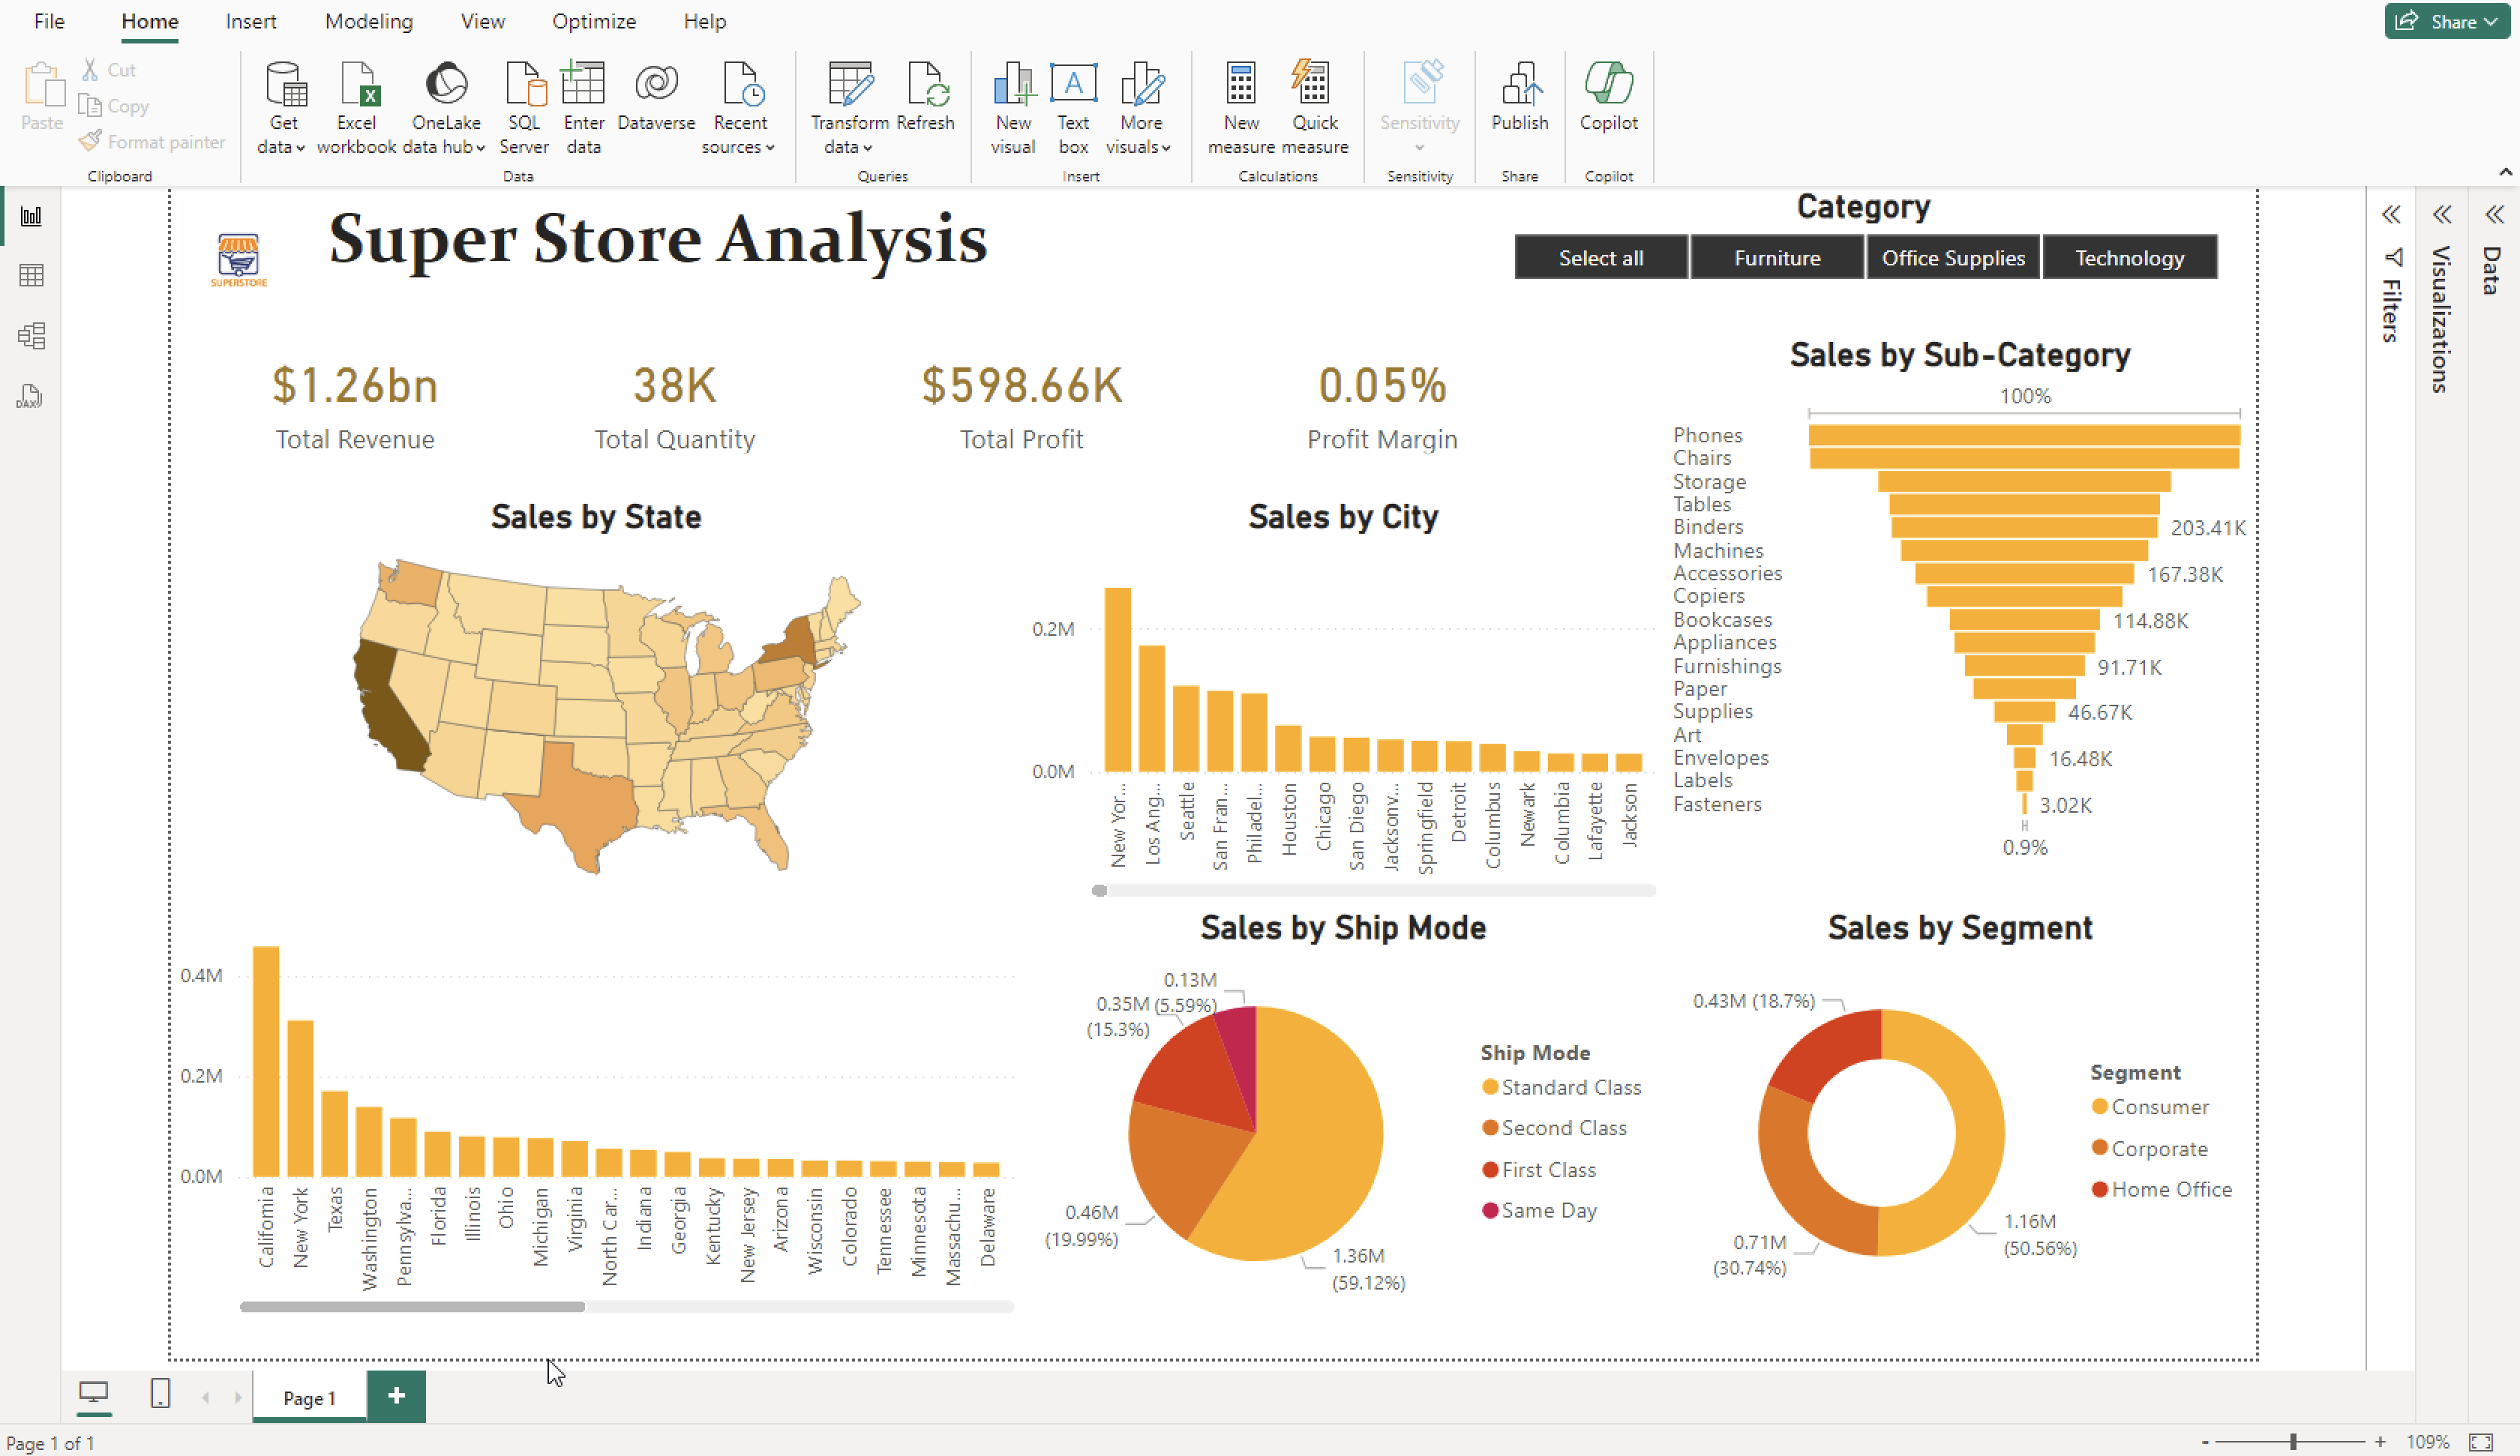

The page's visual inventory and layout, read from the dashboard file:
{"tool":"powerbi","page":{"name":"Page 1","canvas":[1280,720],"ordinal":0},"visuals":[{"type":"card","fields":{"Values":["SampleSuperstore.Total Revenue"]},"box":[0,91.6,226.4,78.2],"z":0},{"type":"card","fields":{"Values":["Sum(SampleSuperstore.Total Quantity)"]},"box":[226.4,91.6,165.7,78.2],"z":1000},{"type":"card","fields":{"Values":["Sum(SampleSuperstore.Profit)"]},"box":[392,91.6,260.3,78.2],"z":2000},{"type":"card","fields":{"Values":["SampleSuperstore.Profit Margin"]},"box":[652.3,91.6,182.1,78.2],"z":3000},{"type":"shapeMap","fields":{"Value":["Sum(SampleSuperstore.Sales)"],"Category":["SampleSuperstore.State"]},"box":[0,190.4,522.7,250],"z":3001},{"type":"columnChart","fields":{"Y":["Sum(SampleSuperstore.Sales)"],"Category":["SampleSuperstore.State"]},"box":[0,440.4,522.7,257.2],"z":3002},{"type":"columnChart","title":"Sales by City","fields":{"Category":["SampleSuperstore.City"],"Y":["Sum(SampleSuperstore.Sales)"]},"box":[522.7,190.4,394.1,251.1],"z":3003},{"type":"pieChart","title":"Sales by Ship Mode","fields":{"Category":["SampleSuperstore.Ship Mode"],"Y":["Sum(SampleSuperstore.Sales)"]},"box":[522.7,442.4,394.1,255.2],"z":3004},{"type":"funnel","title":"Sales by Sub-Category","fields":{"Category":["SampleSuperstore.Sub-Category"],"Y":["Sum(SampleSuperstore.Sales)"]},"box":[916.8,91.6,363.2,327.2],"z":3005},{"type":"donutChart","title":"Sales by Segment","fields":{"Category":["SampleSuperstore.Segment"],"Y":["Sum(SampleSuperstore.Sales)"]},"box":[916.8,442.4,363.2,254.1],"z":3006},{"type":"slicer","title":"Category","fields":{"Values":["SampleSuperstore.Category"]},"box":[799.5,0,480.5,61.7],"z":3007},{"type":"textbox","box":[82.6,0,432.9,65.4],"z":3008,"group":"g1"},{"type":"image","box":[0,0,82.6,91.6],"z":3009,"group":"g1"},{"type":"group","id":"g1","title":"Group 1","box":[0,0,515.5,91.6],"z":3010}]}

Visuals, with their boxes on the page's 1280x720 design canvas (x1, y1, x2, y2). These are canvas units, not pixel positions in the 2520x1456 screenshot, which may show the page scaled, cropped or inside an application window:
card - SampleSuperstore.Total Revenue: BBox(0, 92, 226, 170)
card - Sum(SampleSuperstore.Total Quantity): BBox(226, 92, 392, 170)
card - Sum(SampleSuperstore.Profit): BBox(392, 92, 652, 170)
card - SampleSuperstore.Profit Margin: BBox(652, 92, 834, 170)
shapeMap - Sum(SampleSuperstore.Sales) x SampleSuperstore.State: BBox(0, 190, 523, 440)
columnChart - Sum(SampleSuperstore.Sales) x SampleSuperstore.State: BBox(0, 440, 523, 698)
"Sales by City" columnChart: BBox(523, 190, 917, 442)
"Sales by Ship Mode" pieChart: BBox(523, 442, 917, 698)
"Sales by Sub-Category" funnel: BBox(917, 92, 1280, 419)
"Sales by Segment" donutChart: BBox(917, 442, 1280, 696)
"Category" slicer: BBox(800, 0, 1280, 62)
textbox: BBox(83, 0, 516, 65)
image: BBox(0, 0, 83, 92)
"Group 1" group: BBox(0, 0, 516, 92)
